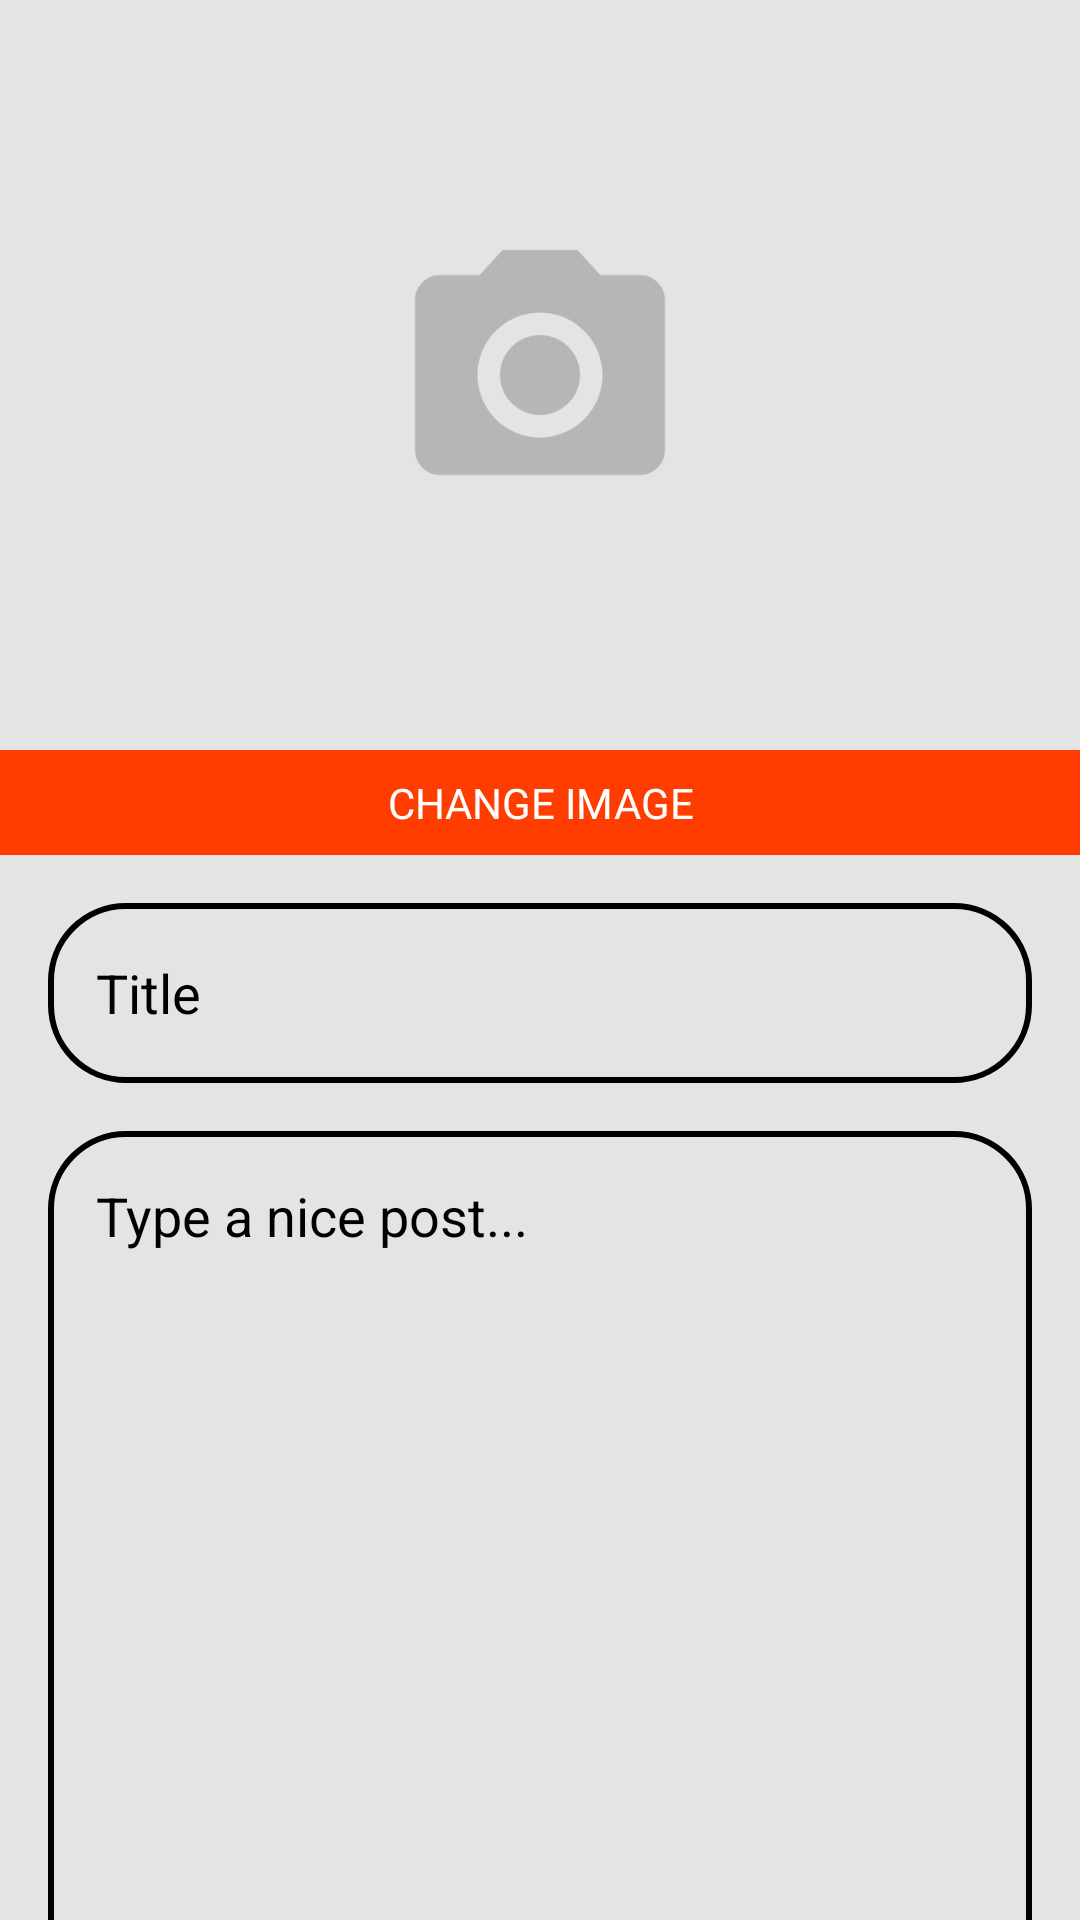

Icon click points for this 1080px×1920px phone screenshot, format (x=x, y=y):
camera: (x=540, y=362)
